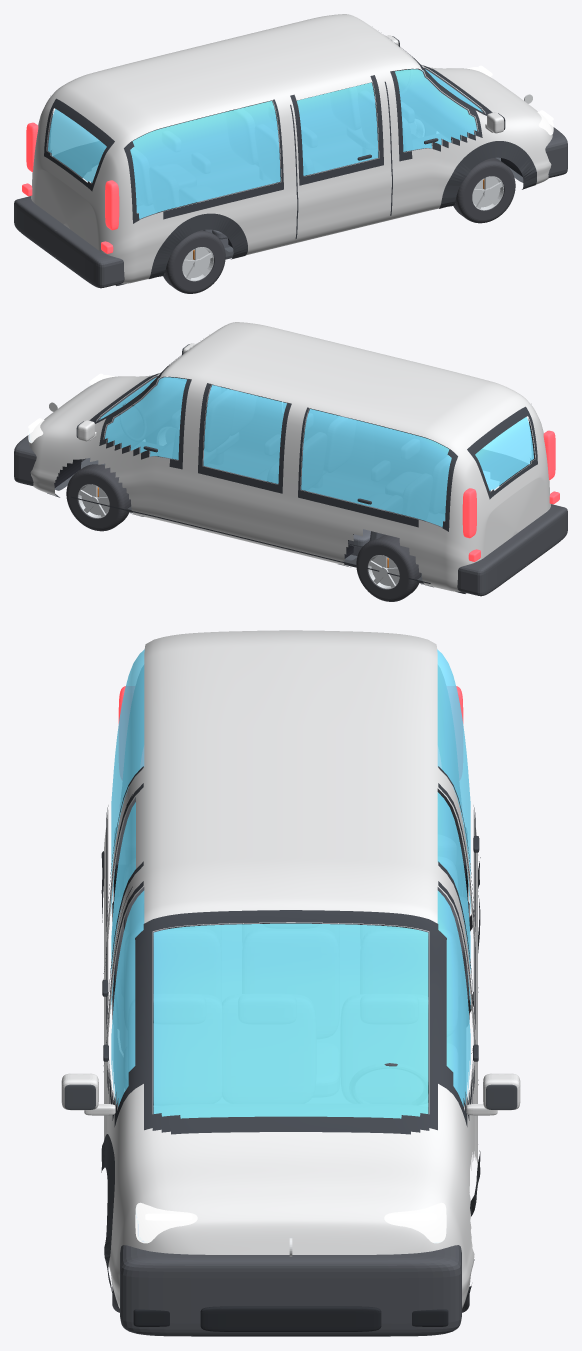
File: caravelle-t5.glb
The picture shows the model from 3 angles, top to bottom: view 1: azimuth 30°, elevation 25°; view 2: azimuth 150°, elevation 25°; view 3: azimuth 270°, elevation 25°; orthographic projection. The views are drawn at different scales.
Visible parts, largest first — view 1: Body, GlassRear, SlidingDoor, GlassDoor, Bumpers, Seals, ArchTrim, GlassCab, Wheels_FR, Wheels_RR, DoorTrim, Taillights (+7 smaller); view 2: Body, GlassRear, Seals, Bumpers, GlassCab, Wheels_FL, Wheels_RL, Taillights, Rims_RL, Rims_FL, CabinSeats, InnerShell (+4 smaller); view 3: Body, Windshield, Bumpers, Seals, GlassRear, GlassCab, Grille, Headlights, Mirrors, ArchTrim, MirrorGlass, GlassDoor (+2 smaller).
Boxes of the visible parts, x1=… form: Body: x1=31, y1=14, x2=552, y2=283; GlassRear: x1=48, y1=101, x2=280, y2=219; SlidingDoor: x1=290, y1=80, x2=388, y2=242; GlassDoor: x1=297, y1=82, x2=378, y2=175; Bumpers: x1=14, y1=127, x2=567, y2=288; Seals: x1=44, y1=40, x2=492, y2=223; ArchTrim: x1=149, y1=141, x2=536, y2=278; GlassCab: x1=395, y1=69, x2=476, y2=151; Wheels_FR: x1=453, y1=158, x2=515, y2=223; Wheels_RR: x1=163, y1=230, x2=225, y2=293; DoorTrim: x1=290, y1=75, x2=383, y2=185; Taillights: x1=22, y1=122, x2=119, y2=253; Body: x1=29, y1=322, x2=550, y2=591; GlassRear: x1=203, y1=385, x2=533, y2=527; Seals: x1=89, y1=348, x2=537, y2=531; Bumpers: x1=14, y1=435, x2=567, y2=596; GlassCab: x1=105, y1=377, x2=186, y2=459; Wheels_FL: x1=66, y1=464, x2=130, y2=531; Wheels_RL: x1=356, y1=535, x2=421, y2=601; Taillights: x1=462, y1=430, x2=559, y2=561; Rims_RL: x1=368, y1=555, x2=399, y2=589; Rims_FL: x1=78, y1=484, x2=109, y2=518; CabinSeats: x1=157, y1=385, x2=450, y2=555; InnerShell: x1=54, y1=376, x2=535, y2=560; Body: x1=104, y1=630, x2=477, y2=1308; Windshield: x1=153, y1=923, x2=428, y2=1118; Bumpers: x1=120, y1=1245, x2=461, y2=1336; Seals: x1=106, y1=766, x2=475, y2=1134; GlassRear: x1=111, y1=649, x2=470, y2=1008; GlassCab: x1=111, y1=890, x2=470, y2=1106; Grille: x1=133, y1=1306, x2=448, y2=1331; Headlights: x1=135, y1=1202, x2=446, y2=1243; Mirrors: x1=61, y1=1073, x2=520, y2=1115; ArchTrim: x1=101, y1=851, x2=480, y2=1300; MirrorGlass: x1=64, y1=1084, x2=517, y2=1109; GlassDoor: x1=111, y1=802, x2=135, y2=1008.
Size of the model in its own units: 5.6 by 1.97 by 2.33.
